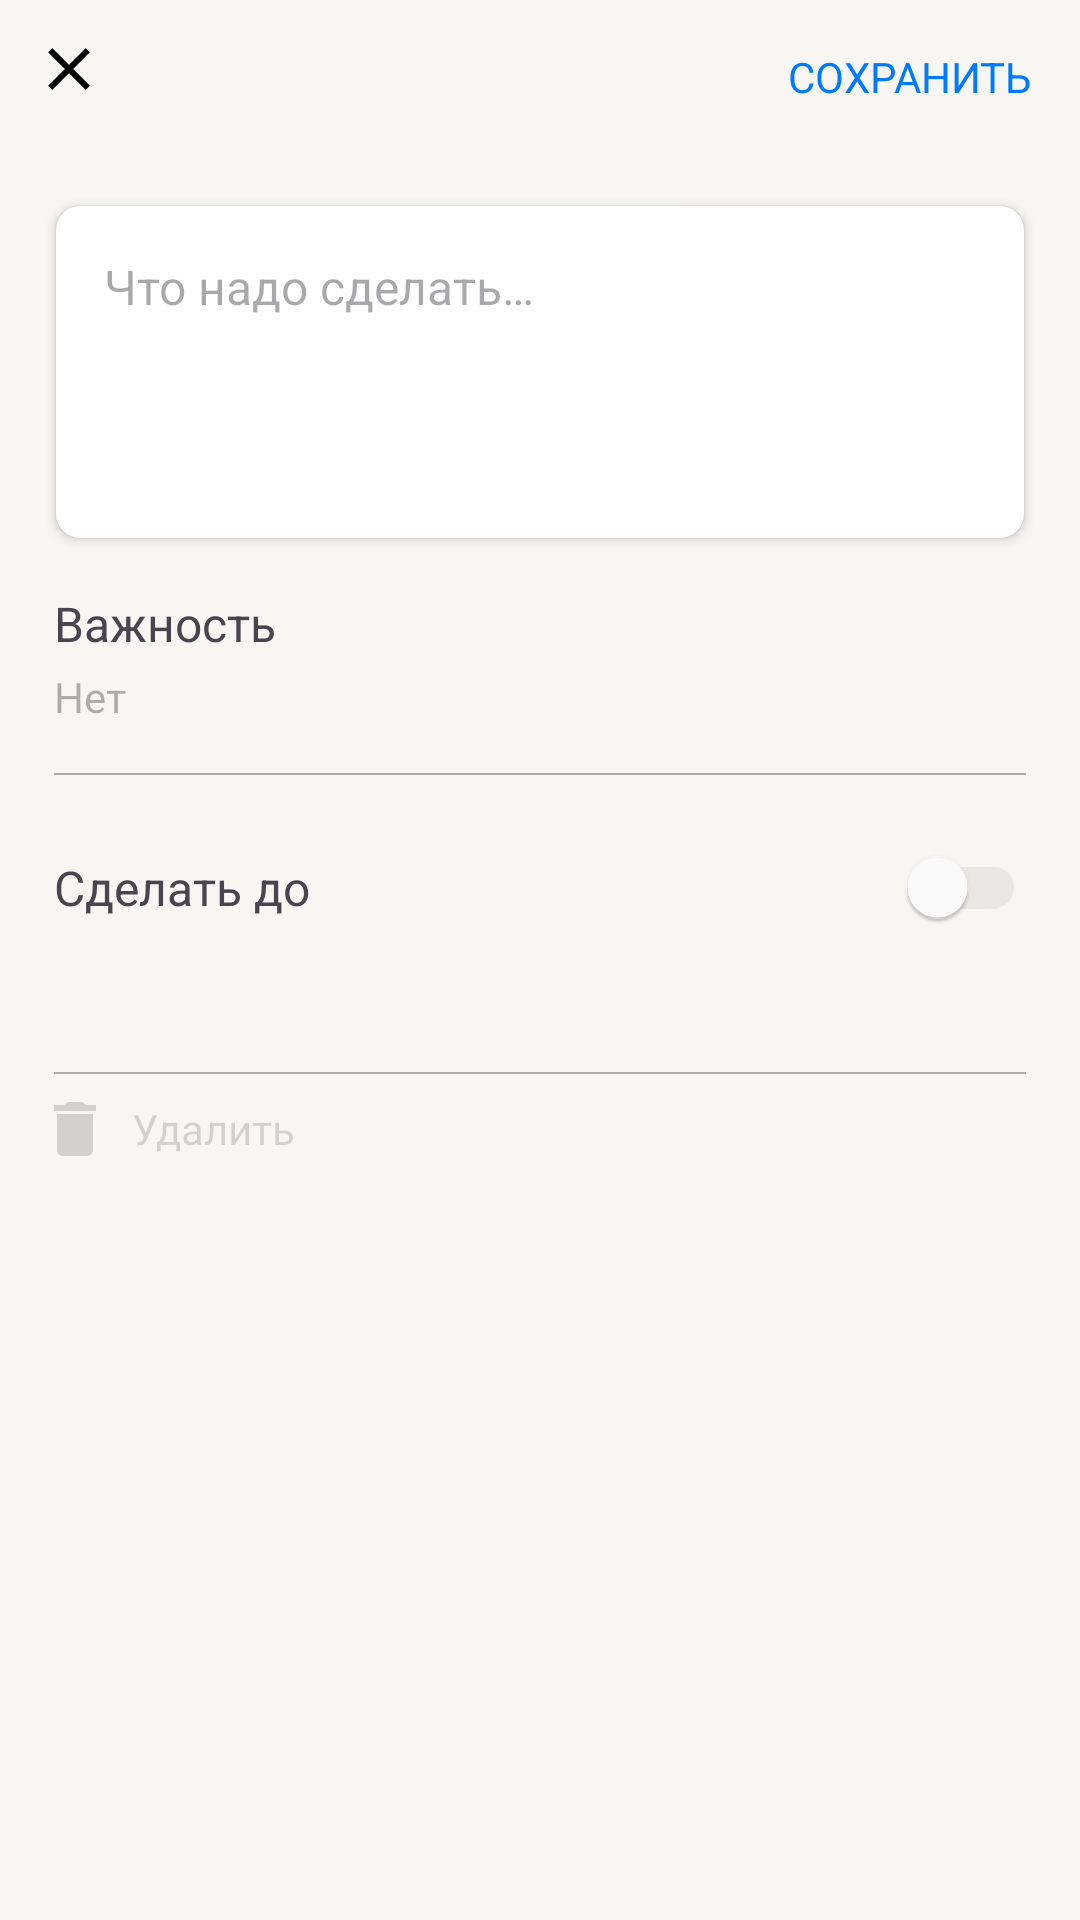

Screen size 1080 × 1920. Icon name, then its box in pixels as (x1, y1, x2, y2):
Закрыть: (48, 48, 90, 90)
